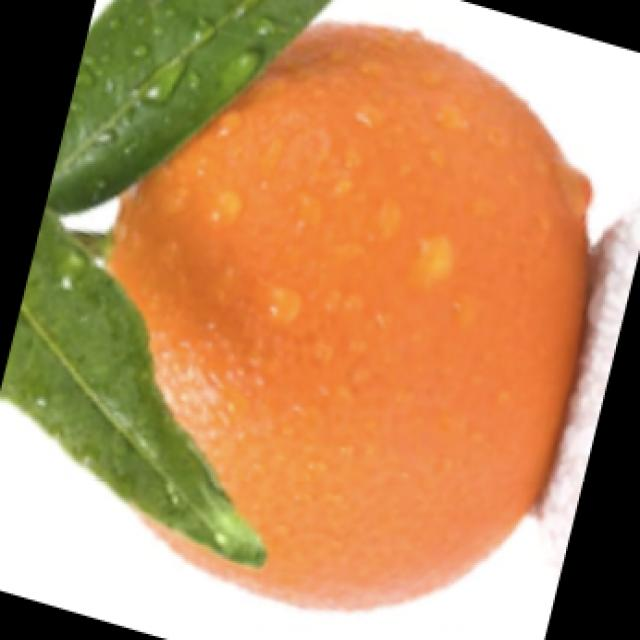fresh: (0, 18, 610, 627)
